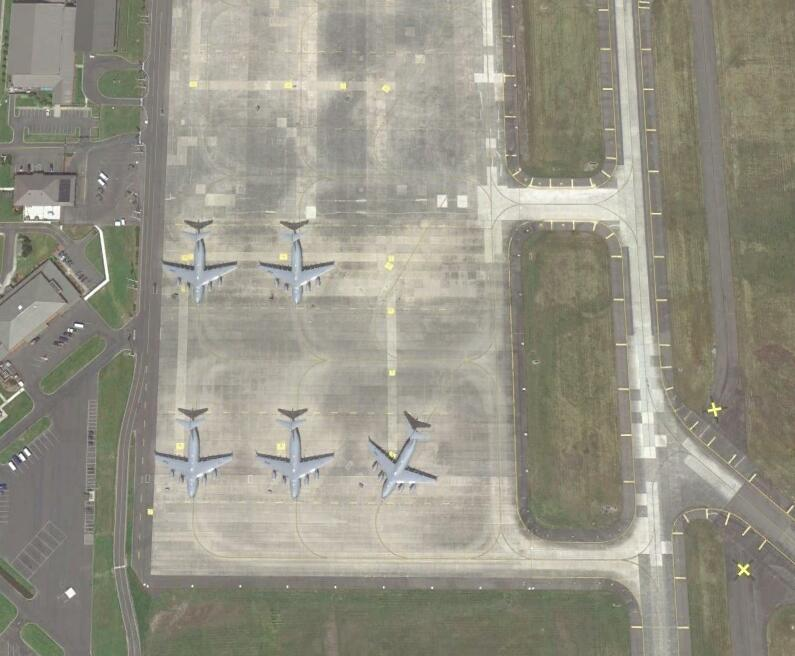A3: (150, 413, 238, 497), (257, 413, 339, 500), (258, 228, 338, 308), (161, 227, 241, 307), (367, 423, 439, 497)
